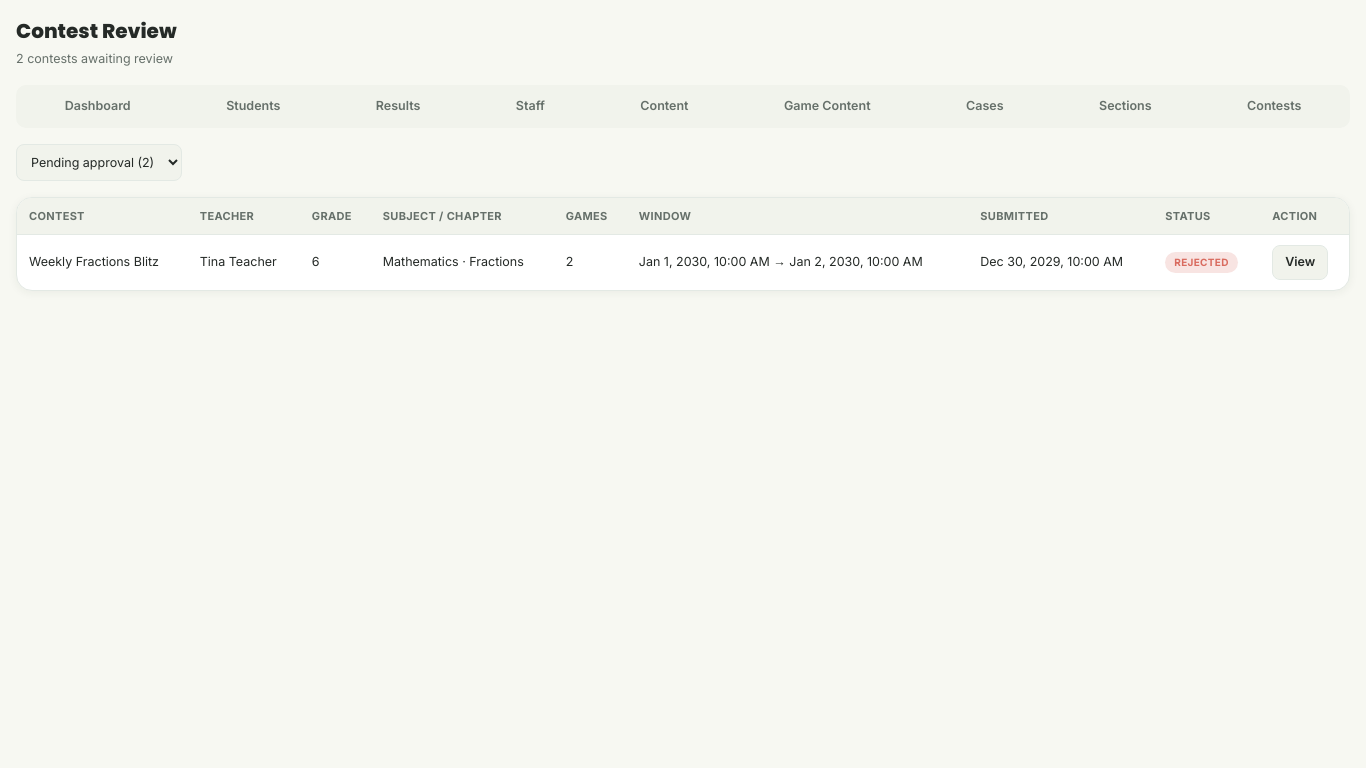
Scenario: review details modal › a reviewed contest offers only Close and shows the previous decision
The width and height of the screenshot is (1366, 768).
Check: the text "Weekly Fractions Blitz" is shown, box [17, 234, 188, 290]
Click the button "View" at (1300, 262), box [1272, 245, 1328, 280]
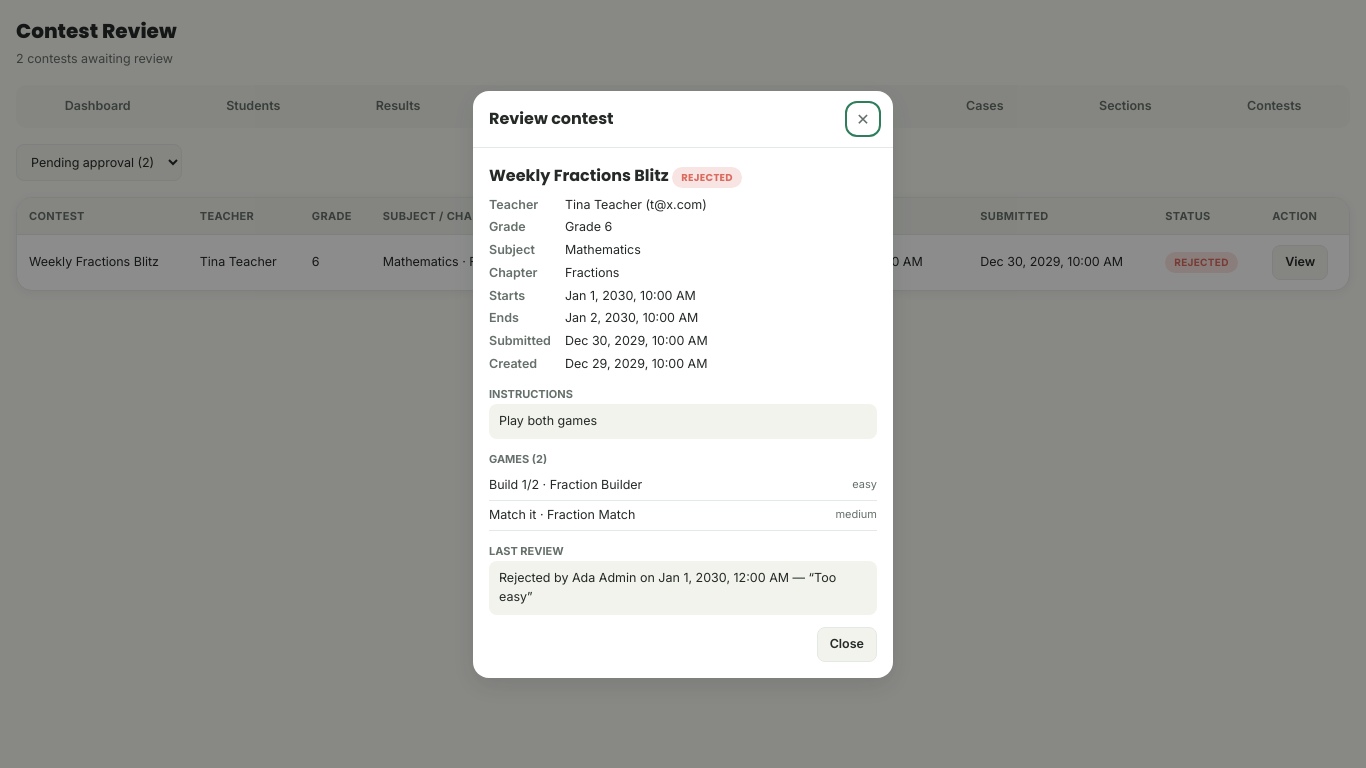
Check: the dialog is shown, box [473, 90, 893, 678]
Check: the text "Tina Teacher (t@x.com)" is shown, box [565, 196, 707, 212]
Check: the text "Rejected by Ada Admin on Jan 1, 2030, 12:00 AM — “Too easy”" is shown, box [489, 561, 877, 615]
